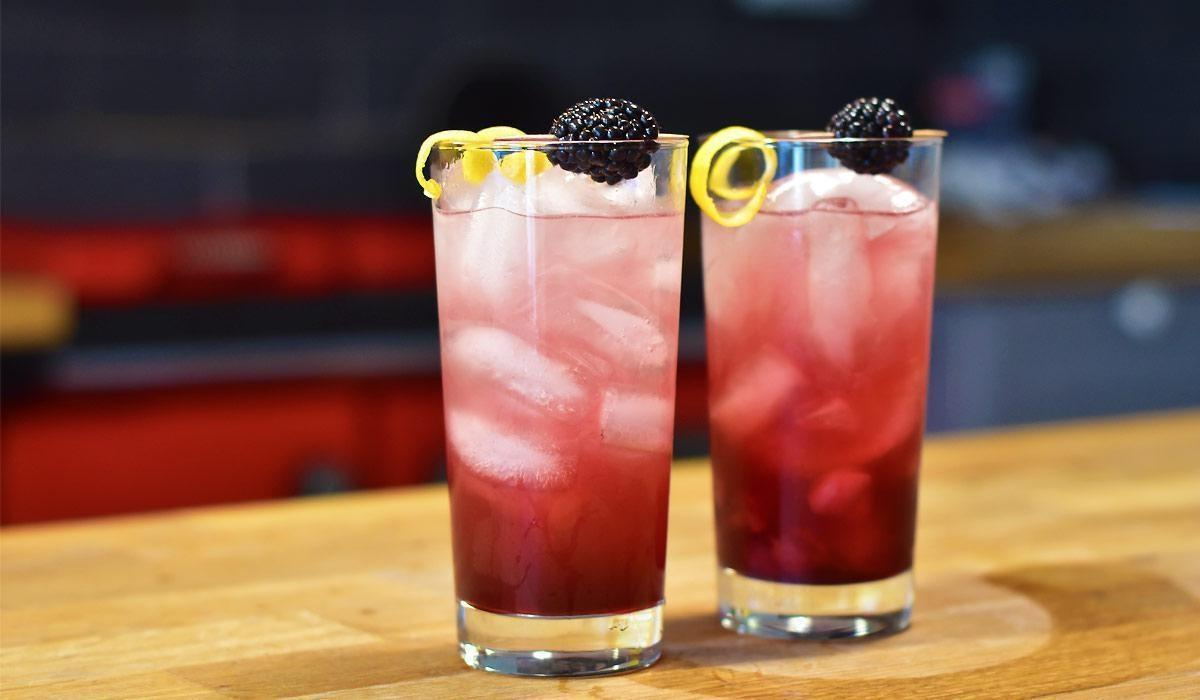glass-normal: (416, 125, 692, 680), (689, 122, 951, 642)
